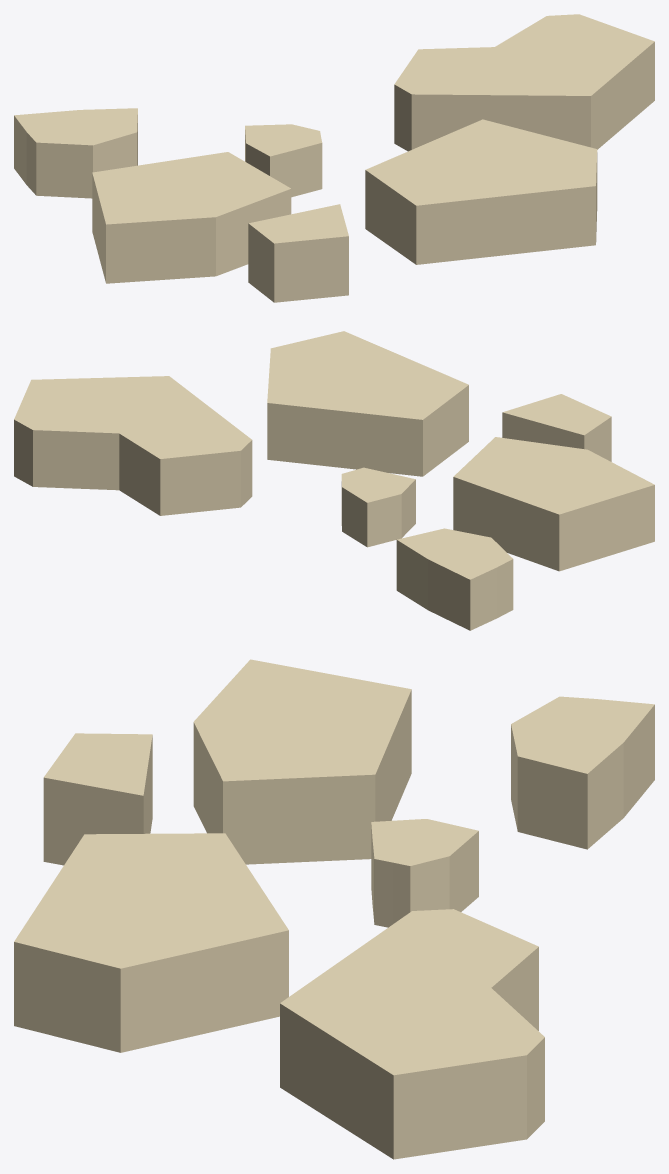
File: stone_13.fbx
3 views of the same model, one above another, from view 1: azimuth 30°, elevation 25°; view 2: azimuth 150°, elevation 25°; view 3: azimuth 270°, elevation 25° (orthographic). The views are drawn at different scales.
Visible parts, largest first — view 1: stone_13; view 2: stone_13; view 3: stone_13.
Part boxes in pixels (box(x1,y1,x2,y2)): stone_13: box(14, 14, 654, 302); stone_13: box(14, 331, 654, 630); stone_13: box(14, 659, 654, 1159).
Bounding box in the file's own units: 278 × 26.73 × 181.
